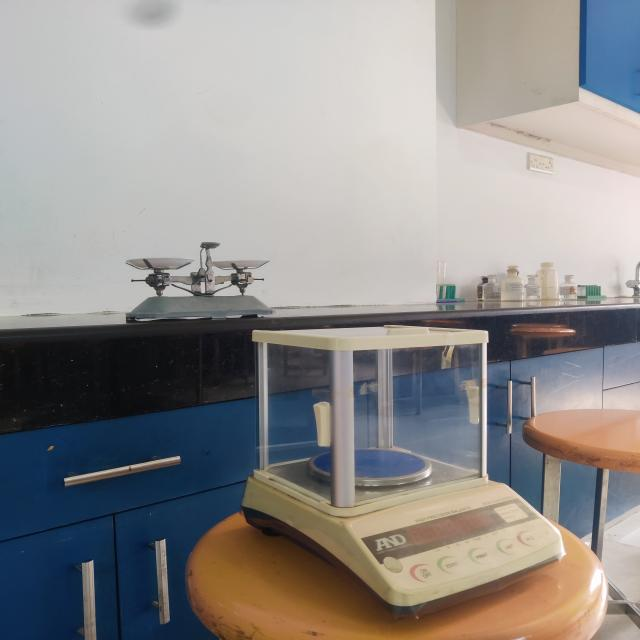Mechanical_Balance_Scale: (106, 224, 282, 326)
Precision_Weight_Scale: (240, 327, 581, 616)
